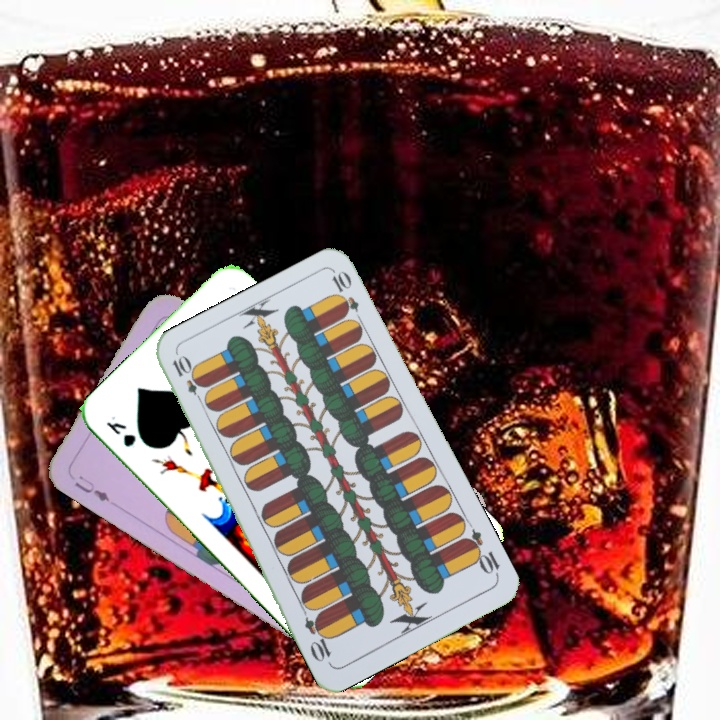E10: (459, 525, 503, 580), (168, 352, 208, 407)
EU: (70, 471, 113, 505)
GK: (102, 412, 139, 450)
